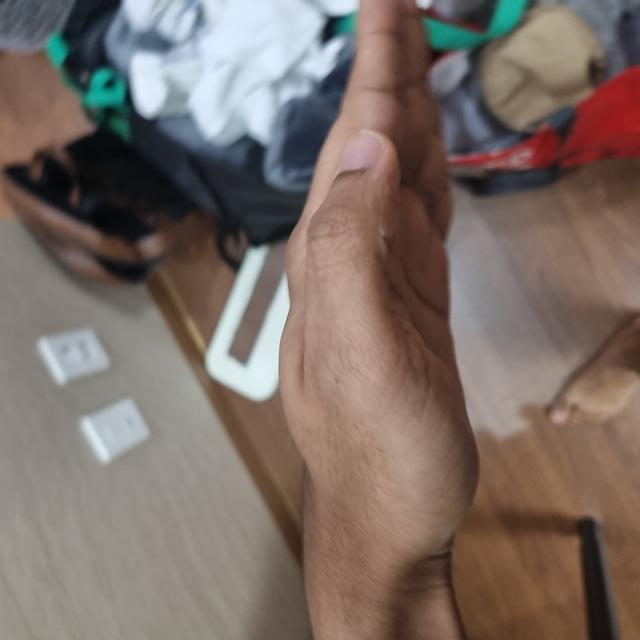Paper: (54, 276, 640, 470)
